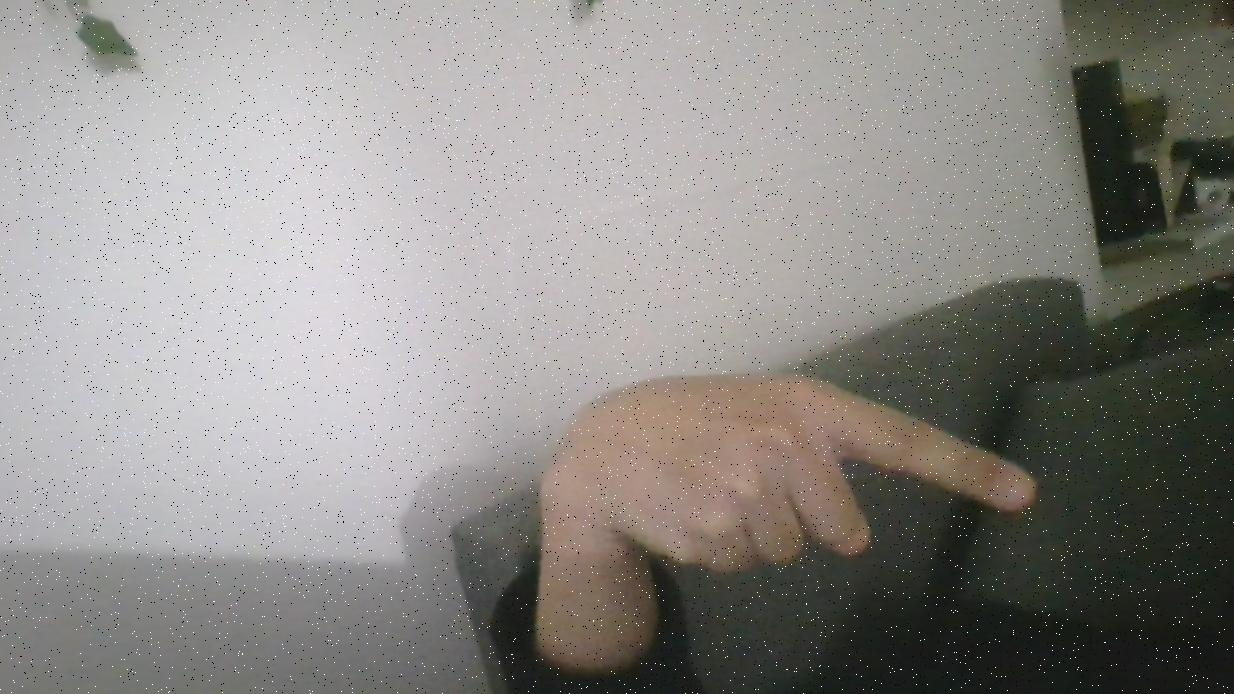right: (511, 335, 1053, 649)
